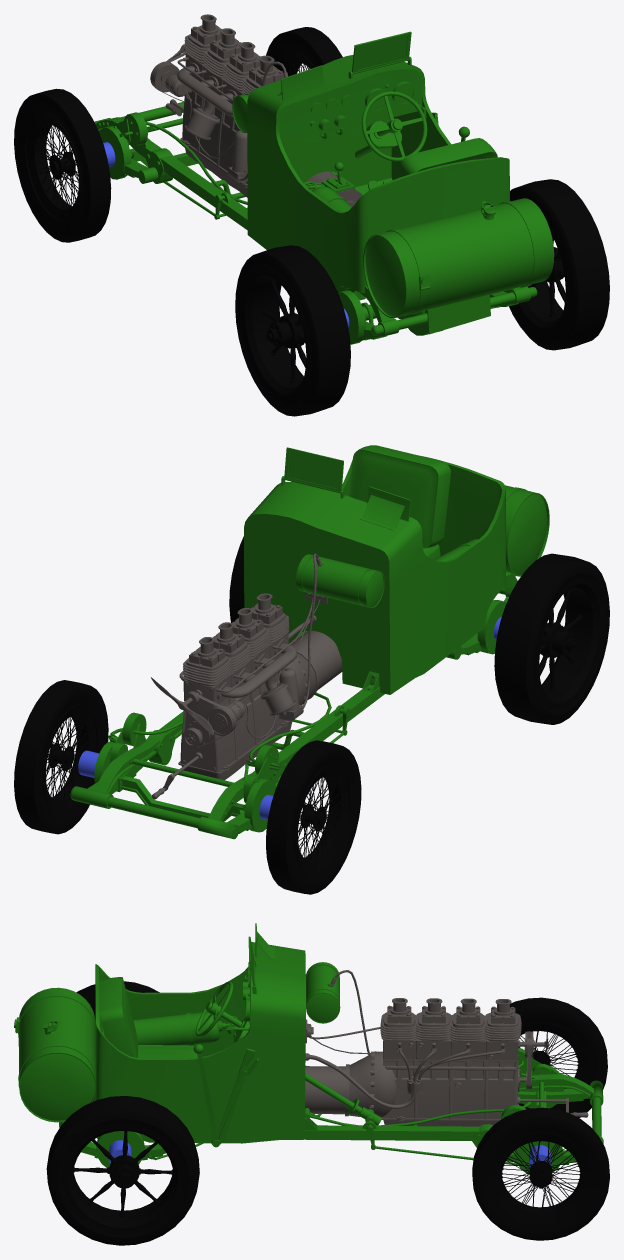
Rendered from car.glb.
The picture shows the model from 3 angles, top to bottom: view 1: azimuth 30°, elevation 25°; view 2: azimuth 150°, elevation 25°; view 3: azimuth 270°, elevation 25°; orthographic projection. The views are drawn at different scales.
Parts seen in each view (by area): view 1: Body, rear left wheel, engine, front left wheel, rear right wheel, front right wheel; view 2: Body, engine, rear left wheel, front left wheel, front right wheel, rear right wheel, engine part, engine part.002; view 3: Body, engine, rear right wheel, front right wheel, front left wheel, rear left wheel.
Part boxes in pixels (left/top/right/bottom): Body: left=94, top=31, right=554, bottom=344; rear left wheel: left=235, top=245, right=350, bottom=416; engine: left=151, top=14, right=362, bottom=206; front left wheel: left=14, top=88, right=111, bottom=242; rear right wheel: left=509, top=179, right=609, bottom=350; front right wheel: left=266, top=27, right=342, bottom=76; Body: left=70, top=445, right=549, bottom=839; engine: left=152, top=553, right=342, bottom=799; rear left wheel: left=494, top=553, right=609, bottom=724; front left wheel: left=266, top=740, right=361, bottom=894; front right wheel: left=14, top=680, right=108, bottom=834; rear right wheel: left=229, top=536, right=244, bottom=622; engine part: left=206, top=705, right=236, bottom=735; engine part.002: left=151, top=677, right=213, bottom=735; Body: left=14, top=923, right=603, bottom=1174; engine: left=305, top=970, right=588, bottom=1126; rear right wheel: left=46, top=1095, right=199, bottom=1245; front right wheel: left=472, top=1107, right=609, bottom=1240; front left wheel: left=510, top=997, right=607, bottom=1117; rear left wheel: left=76, top=981, right=159, bottom=1019.
Bounding box in the file's own units: 1.85 × 1.57 × 3.41.
